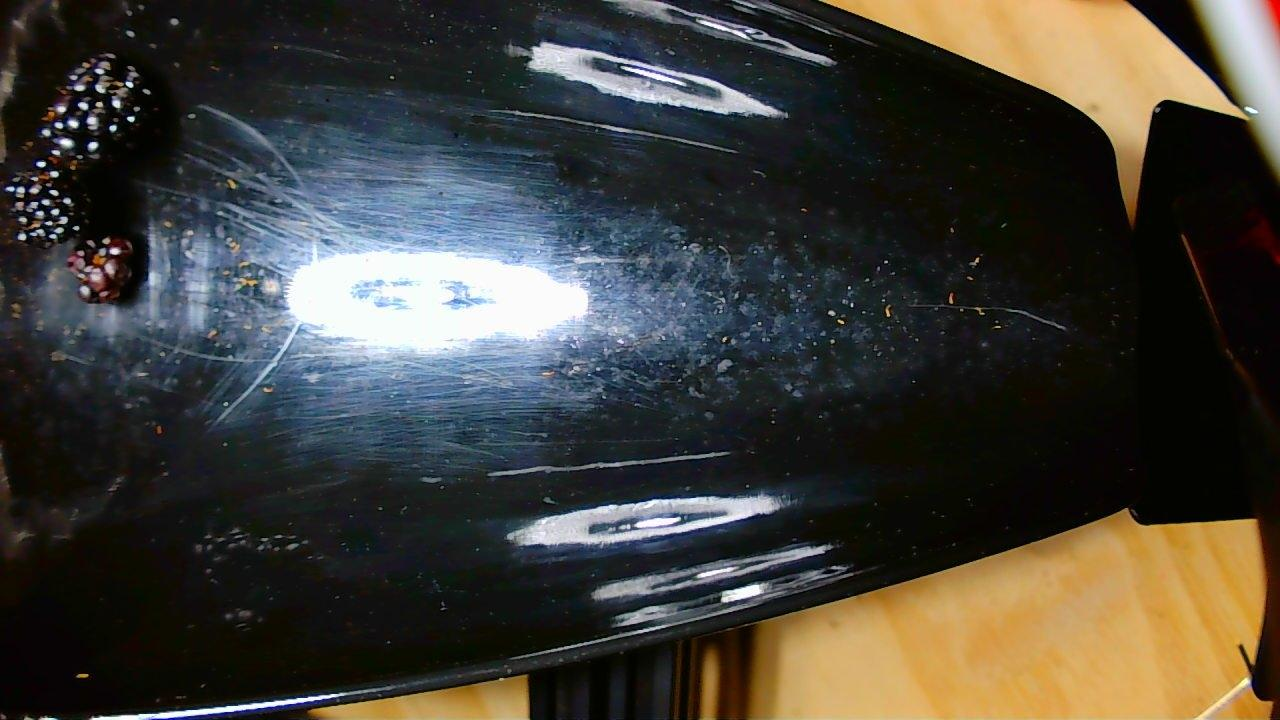berry: (34, 53, 154, 174), (0, 168, 80, 258), (74, 230, 144, 306)
